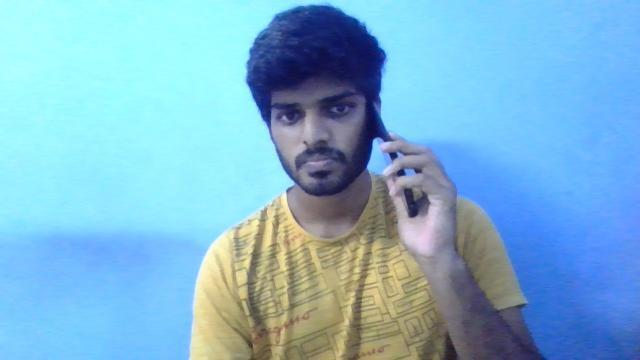PhoneUse: (371, 103, 419, 219)
SafeDriving: (268, 102, 308, 126), (320, 96, 360, 120)
